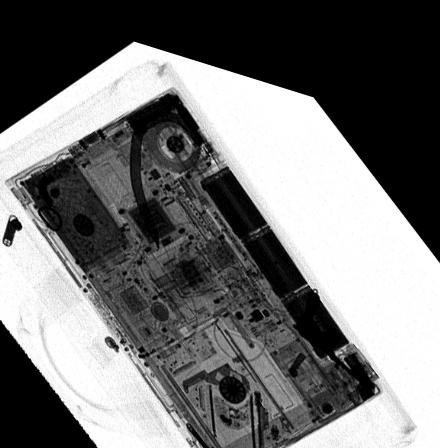Gun: (291, 271, 377, 369)
